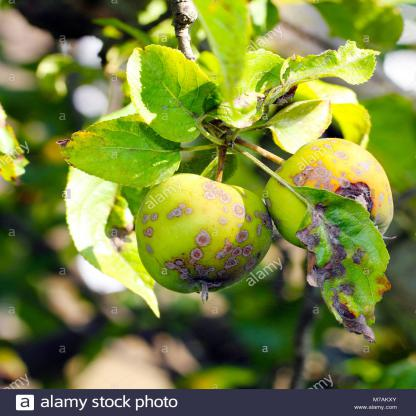Apple Scab Leaf: (300, 189, 392, 348)
